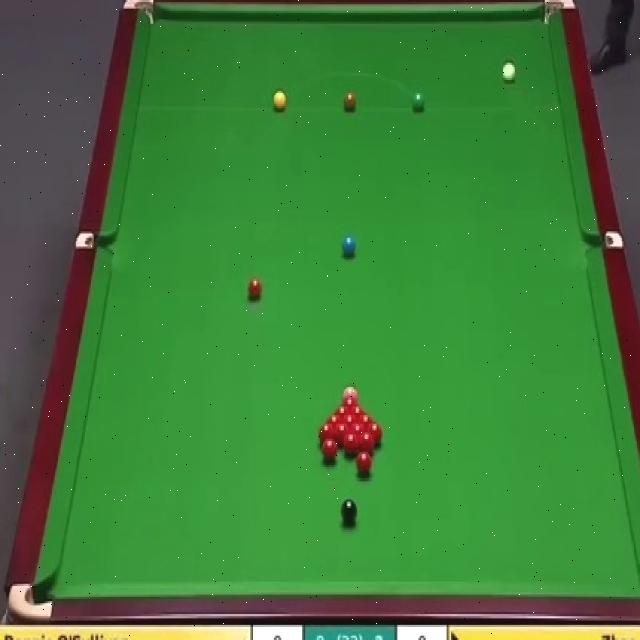black-ball: (341, 499, 356, 524)
blue-ball: (342, 234, 357, 256)
brown-ball: (343, 89, 357, 114)
green-ball: (411, 90, 425, 112)
pink-ball: (342, 386, 361, 400)
red-ball: (360, 432, 374, 457), (323, 439, 338, 462), (357, 452, 371, 476), (343, 434, 358, 456), (246, 278, 262, 298), (360, 414, 373, 437), (335, 424, 349, 445), (319, 425, 334, 444), (368, 422, 382, 442), (352, 425, 364, 446), (327, 416, 342, 424), (342, 417, 360, 423)
white-ball: (501, 61, 516, 82)
yellow-ball: (273, 91, 287, 112)
